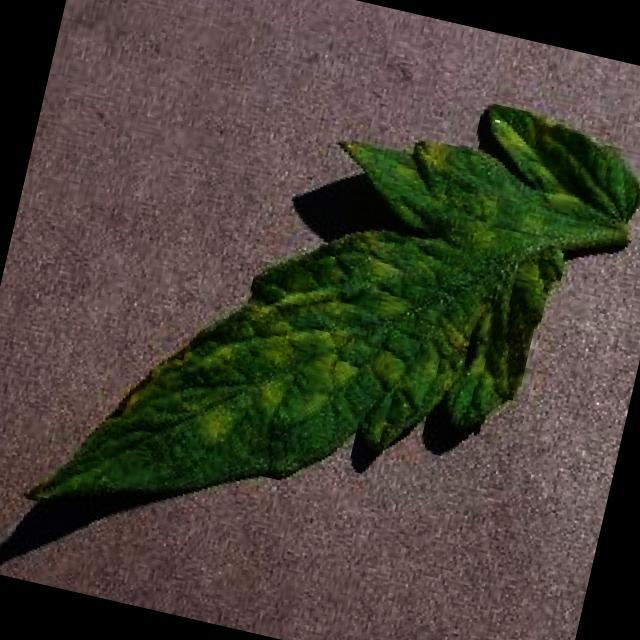Tomato mold leaf: (22, 18, 640, 617)
